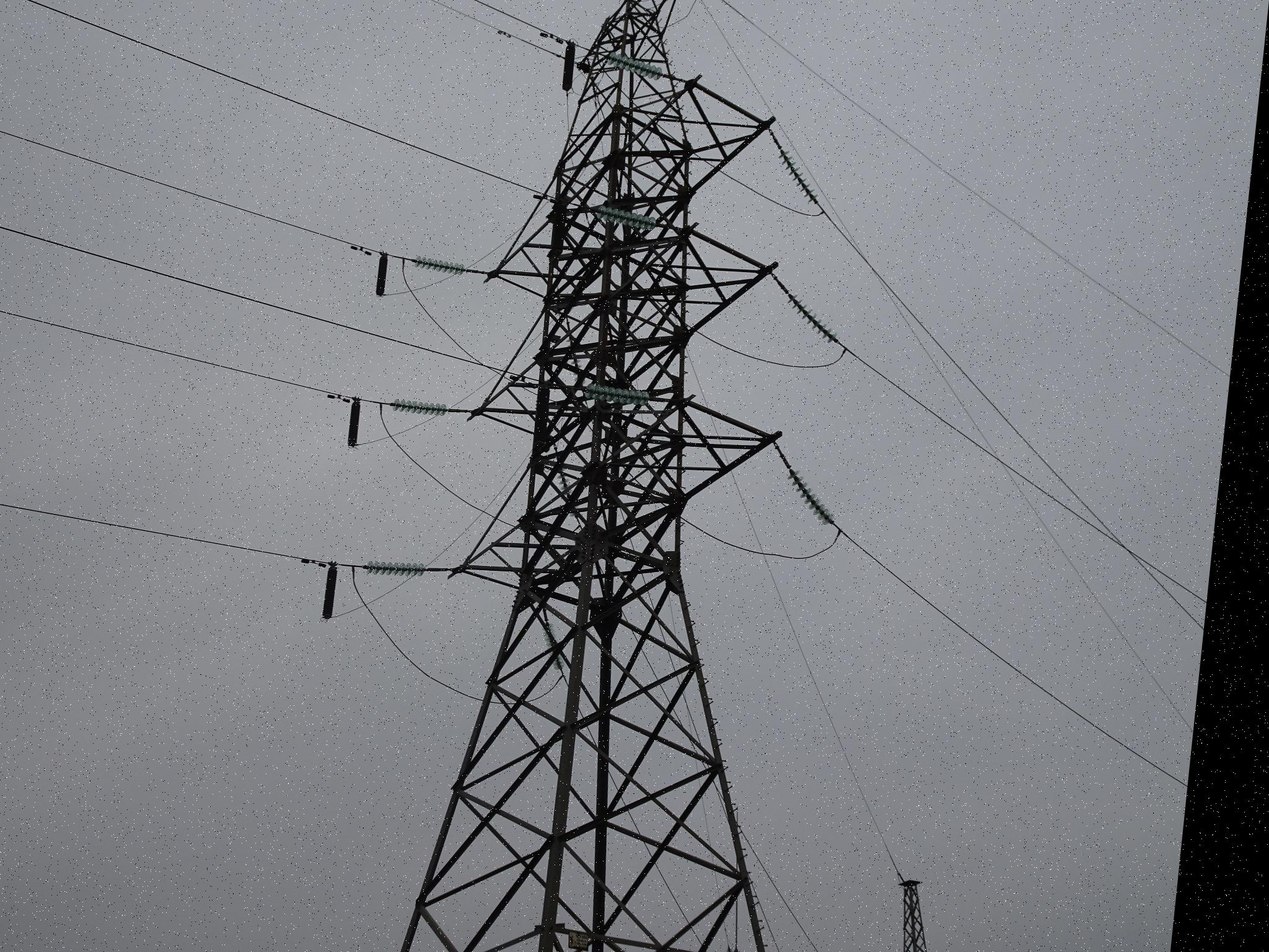tower: (371, 0, 871, 952)
